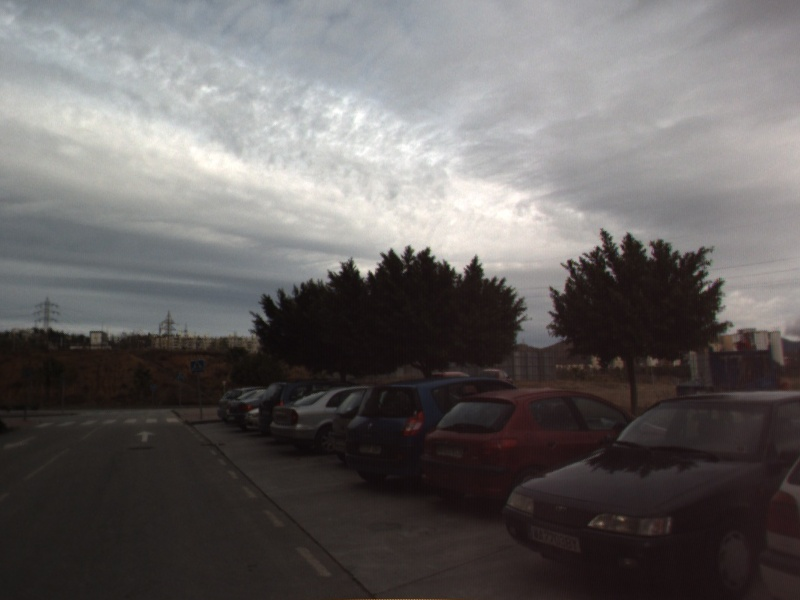STRAIGHT: (134, 428, 158, 444)
